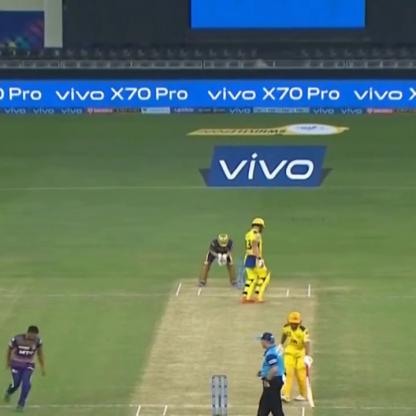pitch: (131, 273, 320, 414)
